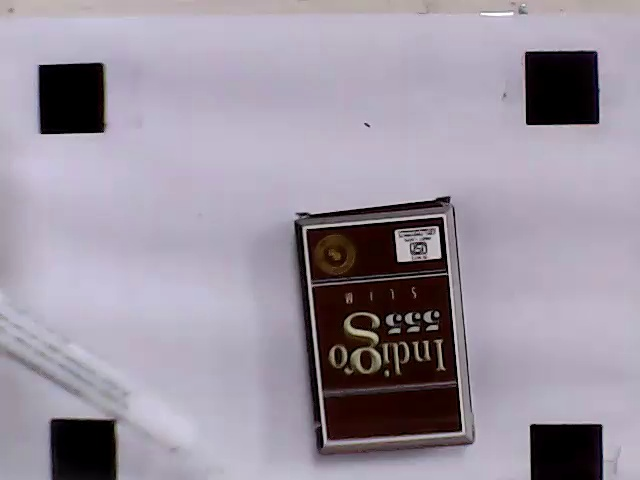BEX: (304, 217, 462, 442)
